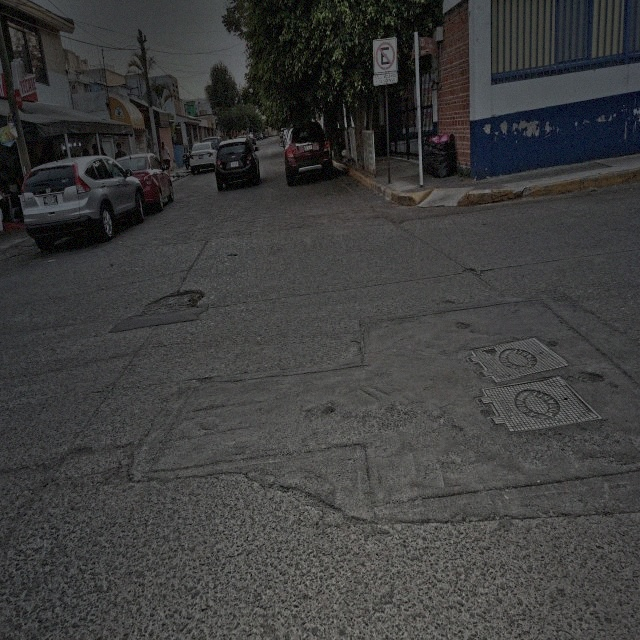pothole: (155, 288, 206, 306), (301, 395, 336, 417), (574, 363, 606, 387), (454, 319, 471, 331)
